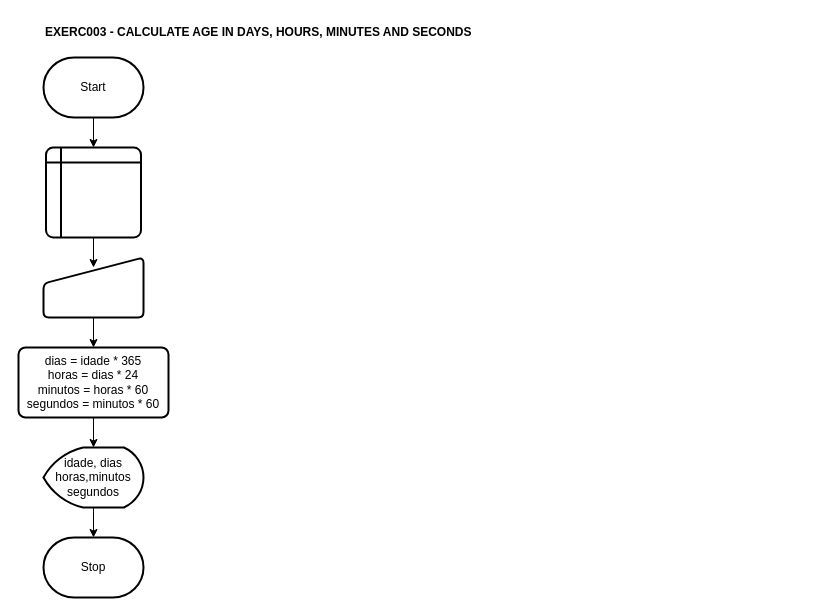
Some shapes in this 820 by 615 pixel diagram are drawn without their labels. The shapes that lost their labels are listed below. From the top down, each one's centre as x and y in pixels, then its label:
At point (93, 192): "idade dias horas minutos segundos".
At point (93, 287): "idade".
